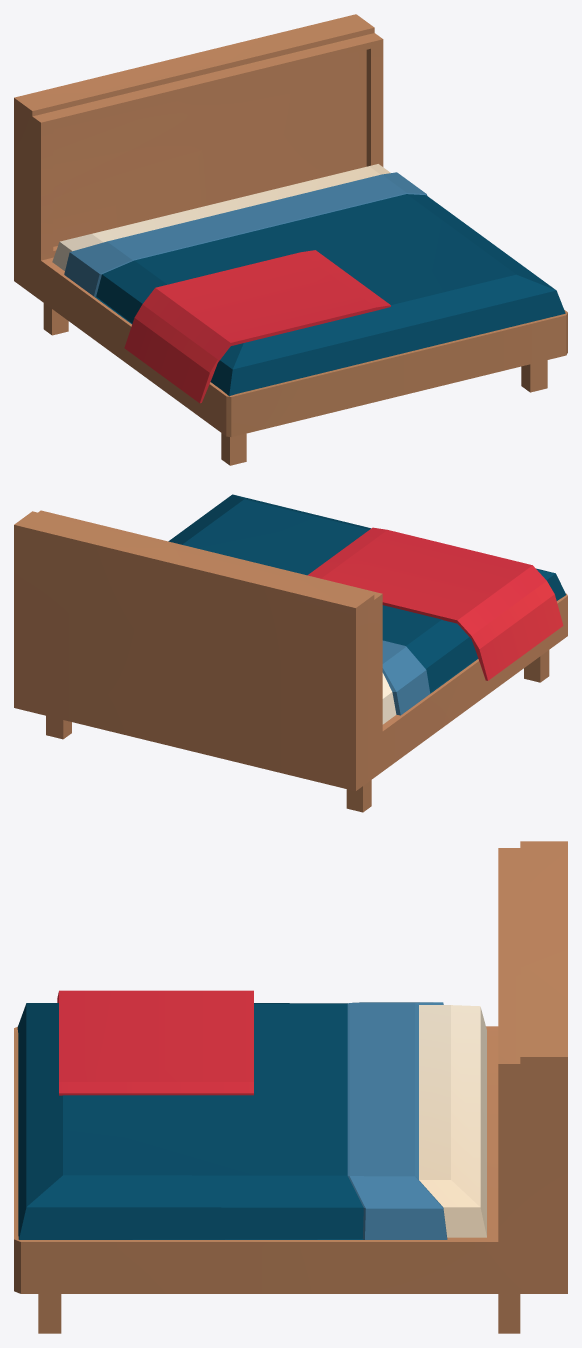
Rendered from Bed_Birch.fbx.
3 renders of one model, top to bottom at view 1: azimuth 30°, elevation 25°; view 2: azimuth 150°, elevation 25°; view 3: azimuth 270°, elevation 25°, orthographic. The views are drawn at different scales.
Parts seen in each view (by area): view 1: Cube.067; view 2: Cube.067; view 3: Cube.067.
Boxes of the visible parts, x1,y1,x2,y2 form: Cube.067: (14,14,567,465); Cube.067: (14,494,567,812); Cube.067: (14,841,567,1333).
Size of the model in its own units: 130 by 77.72 by 137.
